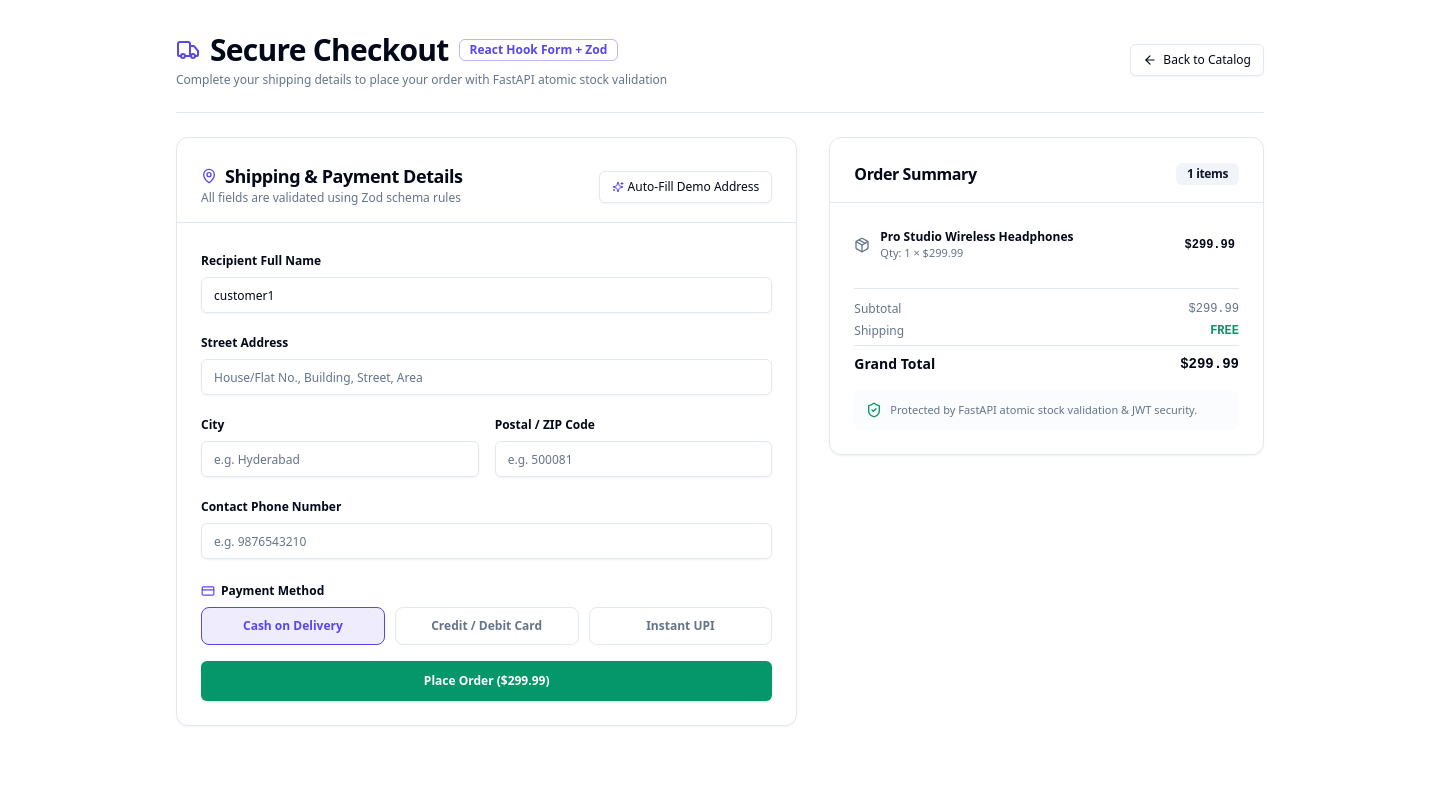
Test: Day 16 — E-Commerce Frontend (Part 2) Comprehensive Test Suite › 2. Checkout Page (react-hook-form + Zod Validation & Order Creation) › submits valid checkout form via POST /orders/checkout and displays Order Confirmed screen
Click the button "Auto-Fill Demo Address".
click(685, 187)  # box [599,171,772,203]
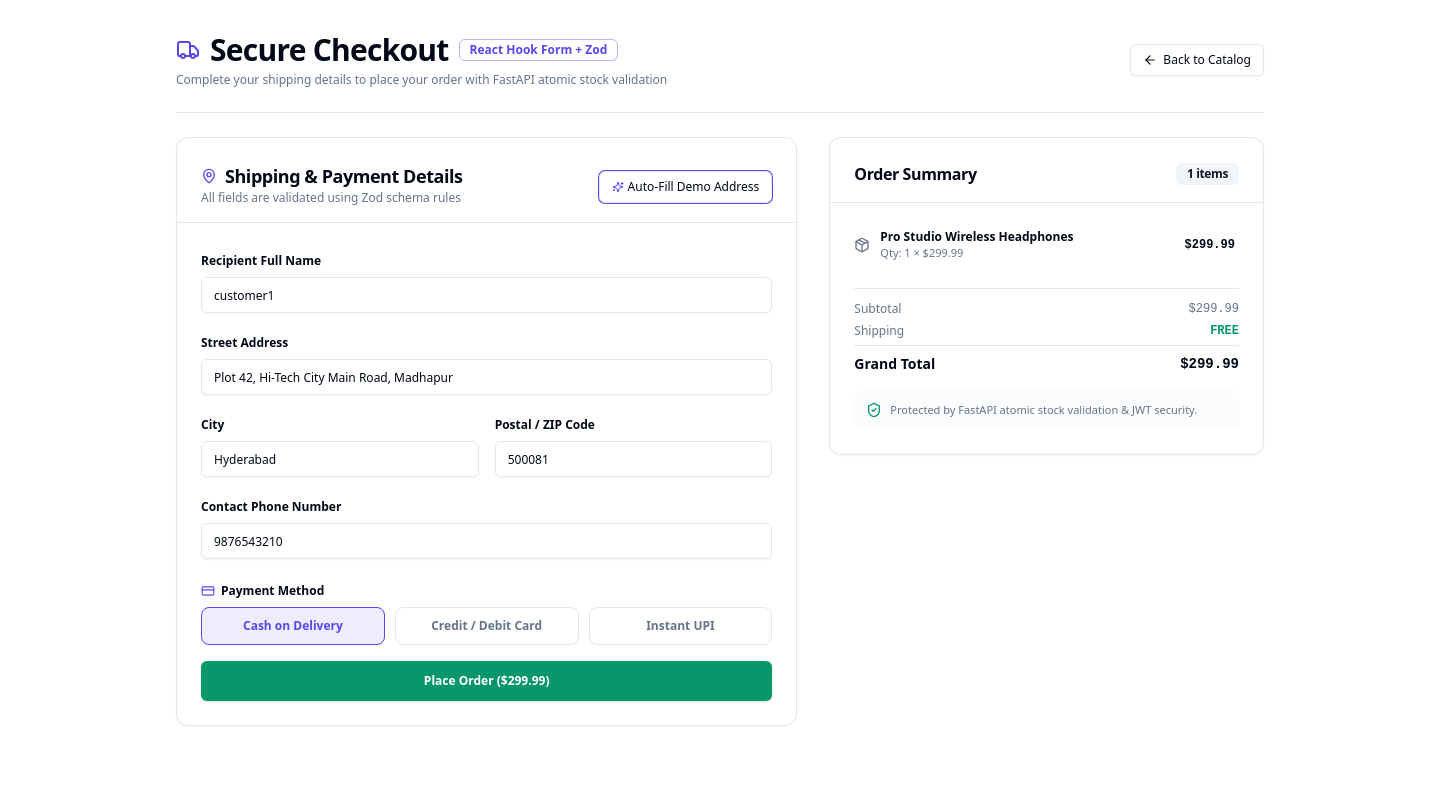
Click the button "Place Order ($299.99)".
click(487, 681)  # box [201,661,772,701]
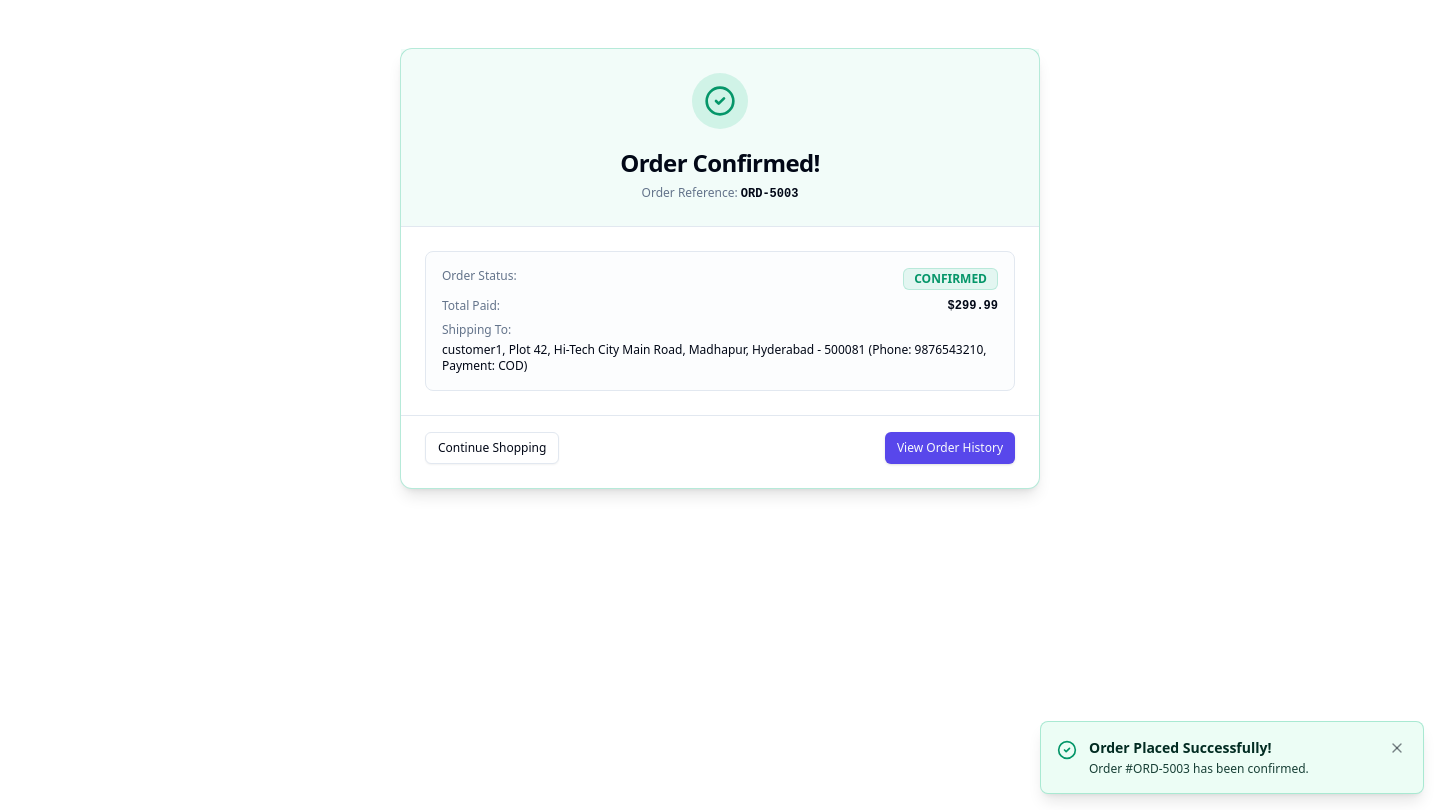
Expected: the heading "Order Confirmed!" is shown, [620,146,820,179]
